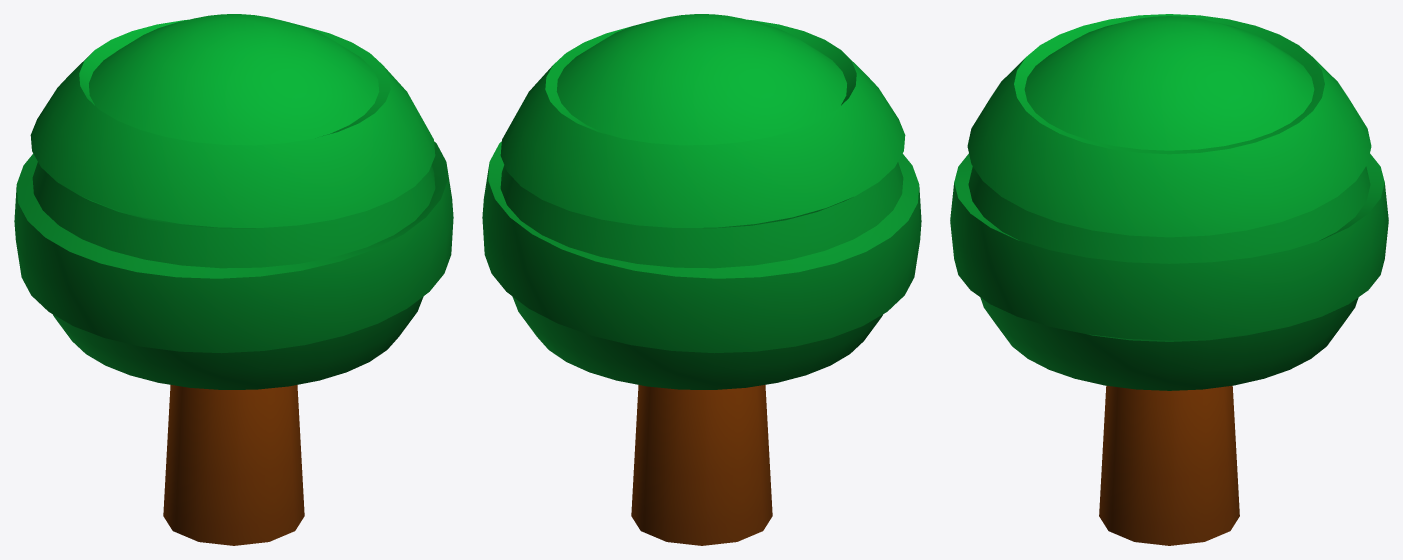
The model's file is Farm_Crop_Tree_02.glb.
3 renders of one model, left to right at view 1: azimuth 30°, elevation 25°; view 2: azimuth 150°, elevation 25°; view 3: azimuth 270°, elevation 25°, orthographic.
Parts seen in each view (by area): view 1: Farm_Crop_Tree_02; view 2: Farm_Crop_Tree_02; view 3: Farm_Crop_Tree_02.
Boxes of the visible parts, x1=… form: Farm_Crop_Tree_02: x1=14, y1=14, x2=453, y2=545; Farm_Crop_Tree_02: x1=482, y1=14, x2=921, y2=545; Farm_Crop_Tree_02: x1=950, y1=14, x2=1388, y2=545.
Bounding box in the file's own units: 1.99 × 2.41 × 1.99.
Materials: 1 (1 with a texture image).
